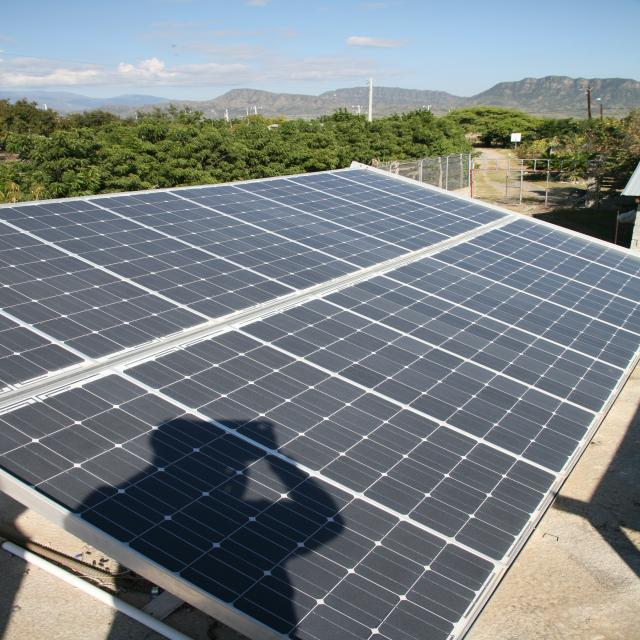dust-solar-panel: (0, 162, 639, 640)
